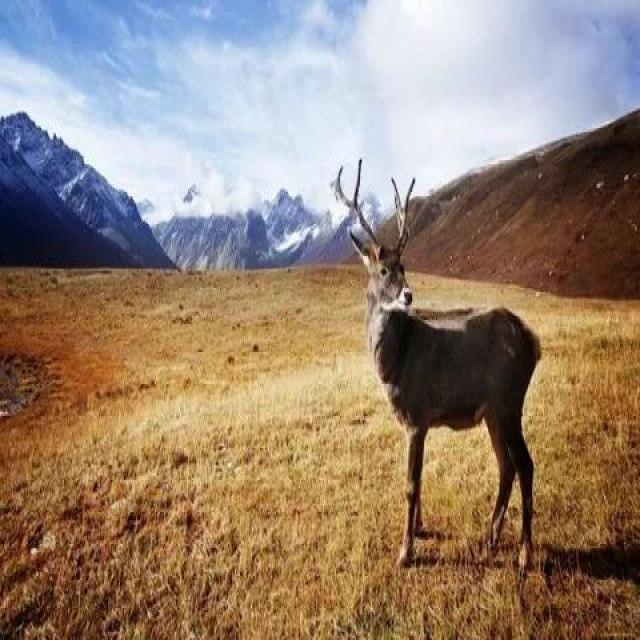deer: (308, 153, 589, 556)
